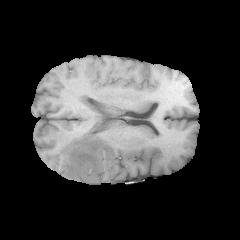glioma: (59, 133, 115, 182)
